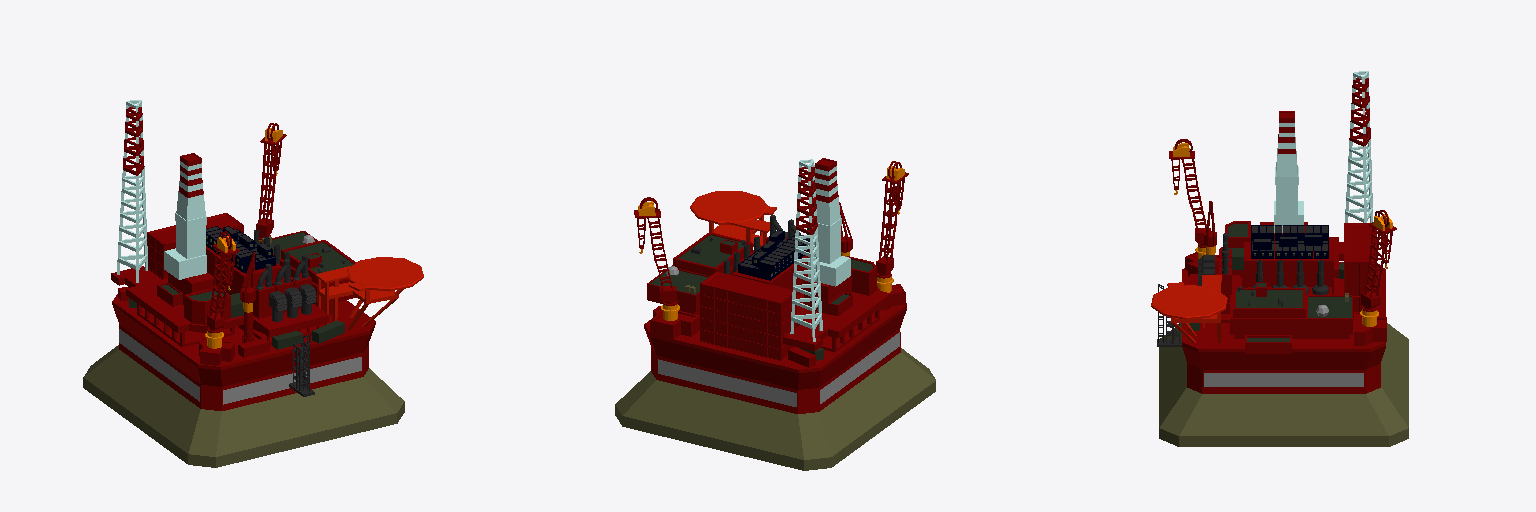
Rendered from Prirazlomnaya.obj.
3 renders of one model, left to right at view 1: azimuth 30°, elevation 25°; view 2: azimuth 150°, elevation 25°; view 3: azimuth 270°, elevation 25°, orthographic.
Visible parts, largest first — view 1: Box001, Box006, Box013, Box022, Cylinder008, Box012, Plane002, Box004, Box011, Object001, Plane005, Object002 (+9 smaller); view 2: Box001, Box011, Box022, Box012, Box006, Box013, Cylinder008, Plane004, Plane005, Object008, Box030, Object002 (+4 smaller); view 3: Box001, Box012, Box022, Box006, Cylinder008, Plane003, Box011, Box019, Box010, Object009, Box030, Object008 (+1 smaller).
Boxes of the visible parts, <box> form: Box001: <box>83,294,404,467</box>; Box006: <box>164,153,206,279</box>; Box013: <box>111,266,253,346</box>; Box022: <box>117,100,147,282</box>; Cylinder008: <box>315,257,423,291</box>; Box012: <box>260,231,356,315</box>; Plane002: <box>223,357,361,404</box>; Box004: <box>318,278,403,330</box>; Box011: <box>147,213,243,279</box>; Object001: <box>253,304,328,345</box>; Plane005: <box>119,329,199,401</box>; Object002: <box>157,272,215,306</box>; Box001: <box>615,303,935,470</box>; Box011: <box>700,272,796,360</box>; Box022: <box>790,159,822,341</box>; Box012: <box>647,232,753,315</box>; Box006: <box>808,158,850,286</box>; Box013: <box>783,286,890,351</box>; Cylinder008: <box>690,191,776,232</box>; Plane004: <box>658,359,796,406</box>; Plane005: <box>820,332,899,403</box>; Object008: <box>879,172,908,262</box>; Box030: <box>650,306,699,339</box>; Object002: <box>804,269,852,315</box>; Box001: <box>1159,262,1408,446</box>; Box012: <box>1230,288,1352,353</box>; Box022: <box>1345,71,1372,222</box>; Box006: <box>1274,111,1303,232</box>; Cylinder008: <box>1151,275,1227,319</box>; Plane003: <box>1204,373,1363,386</box>; Box011: <box>1344,223,1376,319</box>; Box019: <box>1244,242,1333,294</box>; Box010: <box>1189,272,1378,345</box>; Object009: <box>1364,222,1396,297</box>; Box030: <box>1354,312,1386,345</box>; Object008: <box>1169,151,1206,232</box>.
Bounding box in the file's own units: 91.32 × 106 × 86.44.